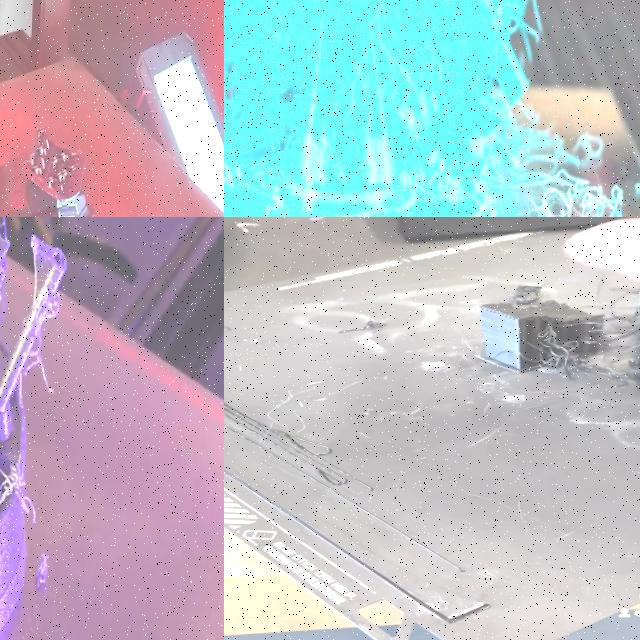spaghetti: (379, 0, 527, 137), (224, 0, 321, 169), (566, 273, 640, 390), (21, 286, 68, 398), (0, 456, 41, 524), (31, 550, 56, 592)
